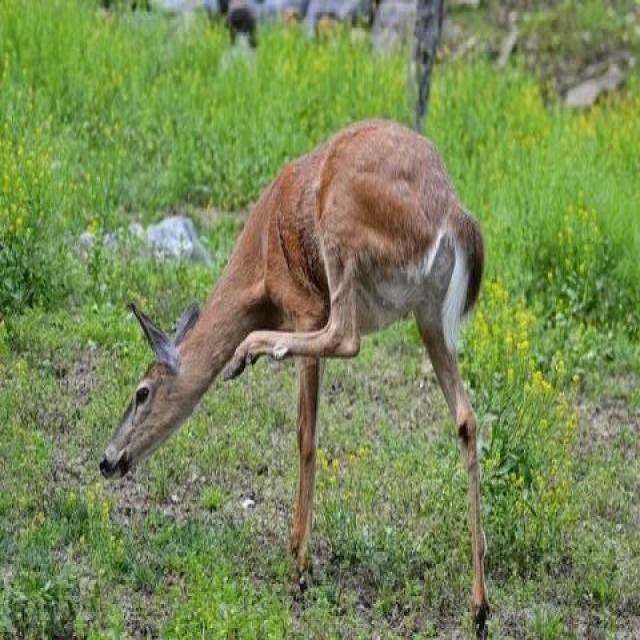deer: (89, 113, 568, 542)
